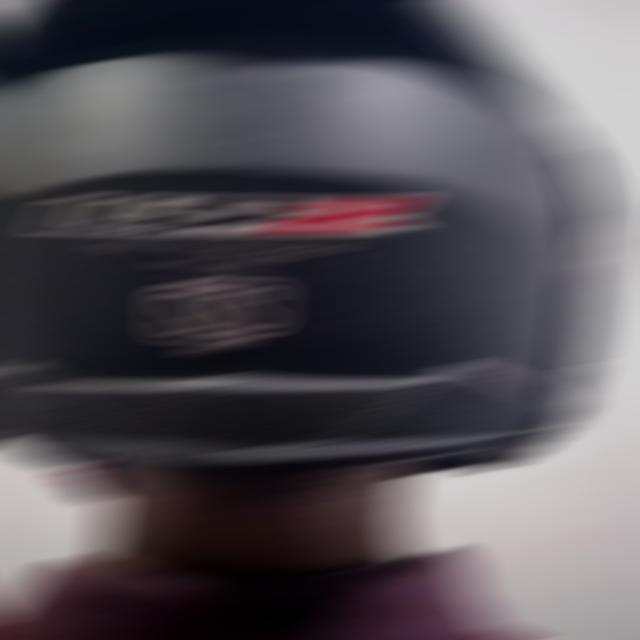With Helmet: (0, 1, 626, 470)
